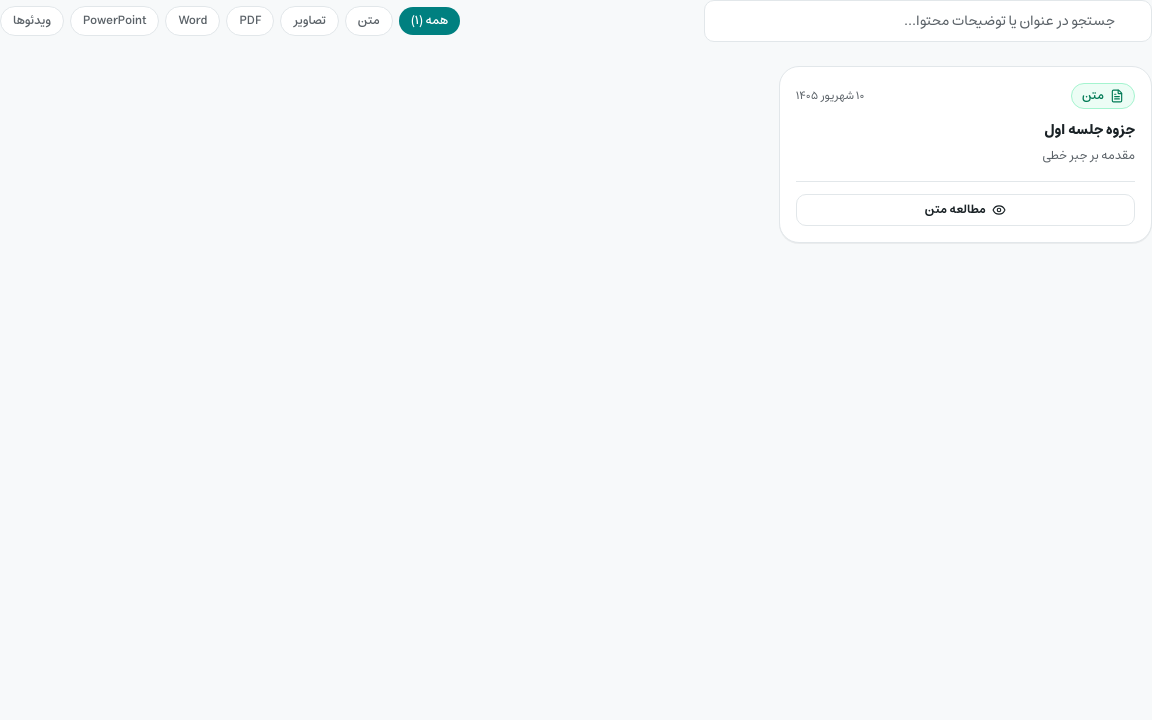
it: Classroom Educational Content — Frontend Flow Tests › Student: StudentClassroomContents › opens viewer modal when student clicks on text content
Step 1. Click the button "مطالعه متن" → (965, 210), box [796,194,1135,226]
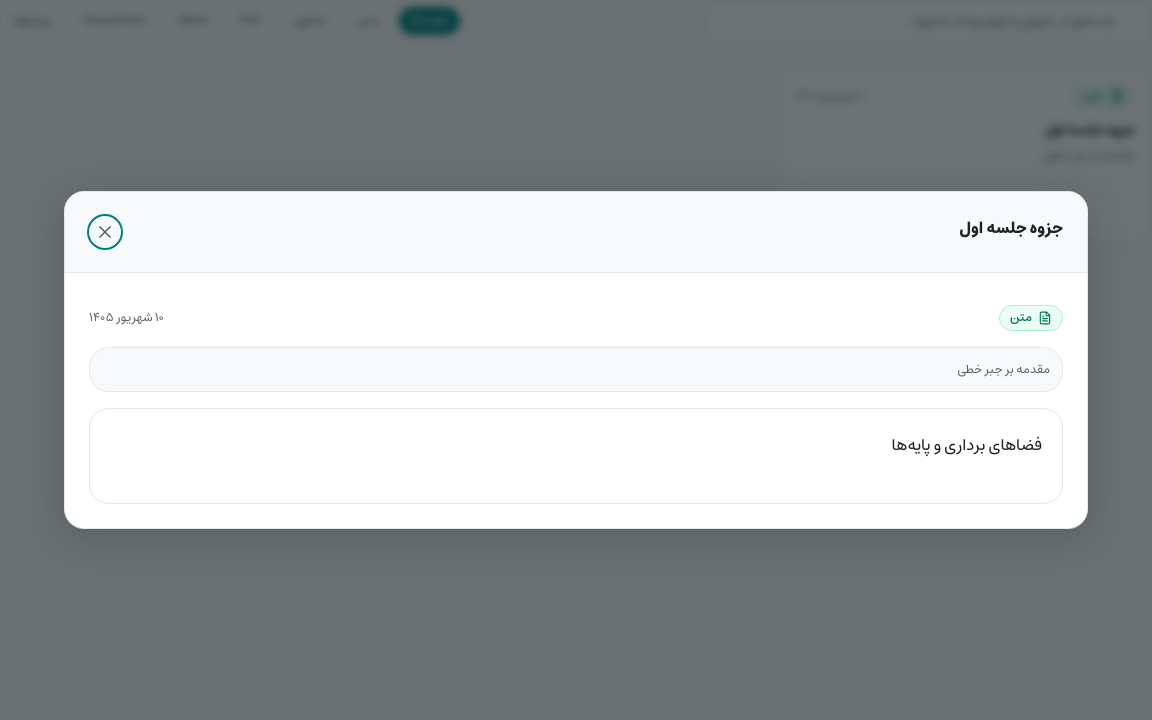
Result: the text "فضاهای برداری و پایه‌ها" is shown at [892,432,1042,460]
